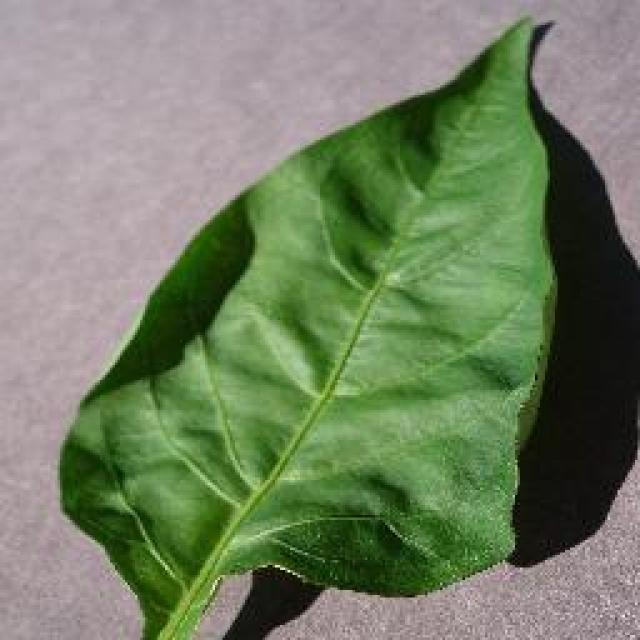Chilli_Healthy: (55, 12, 560, 638)
